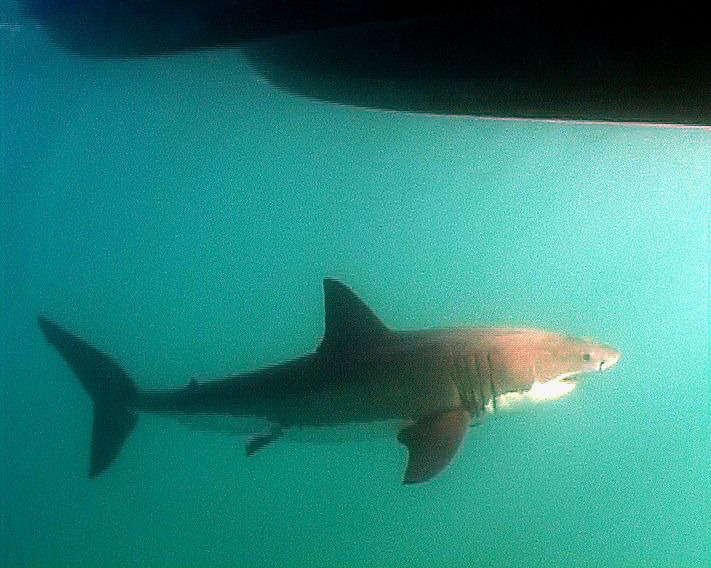Carcharodon_carcharias: (34, 261, 660, 509)
